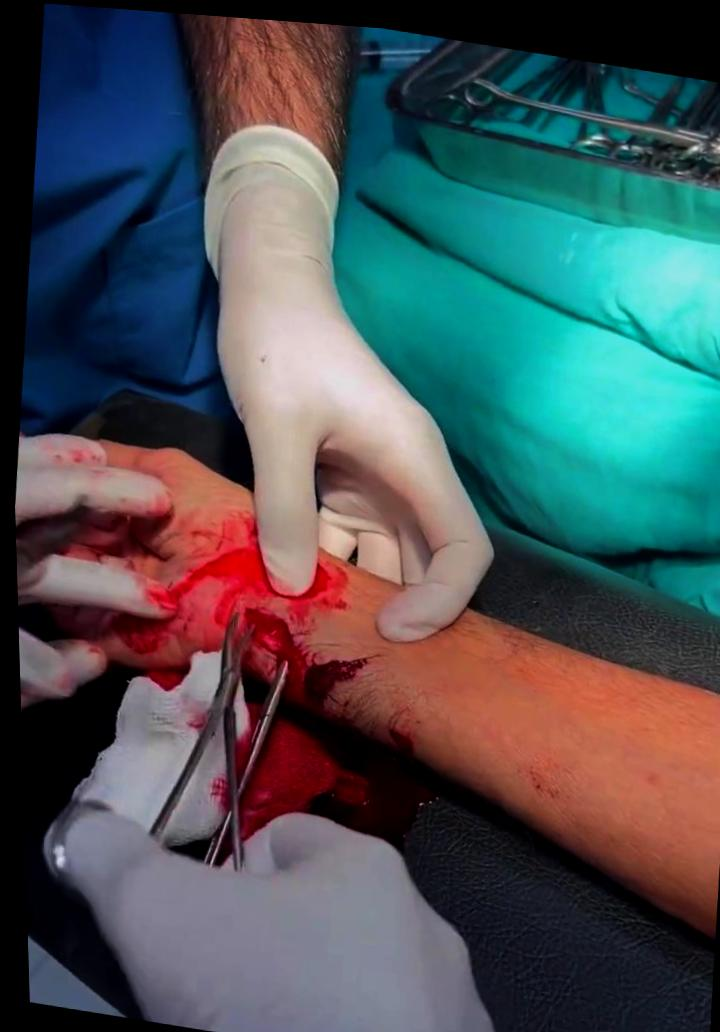Fire: (161, 534, 434, 844), (173, 498, 250, 548), (104, 614, 164, 677)
